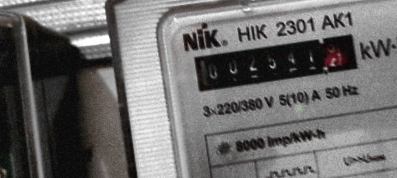0: (203, 58, 219, 81), (224, 53, 239, 76)
1: (302, 44, 316, 65)
2: (244, 52, 258, 73)
4: (283, 45, 298, 68)
5: (262, 48, 277, 72)
6: (326, 53, 339, 69)
screen: (181, 23, 369, 101)
